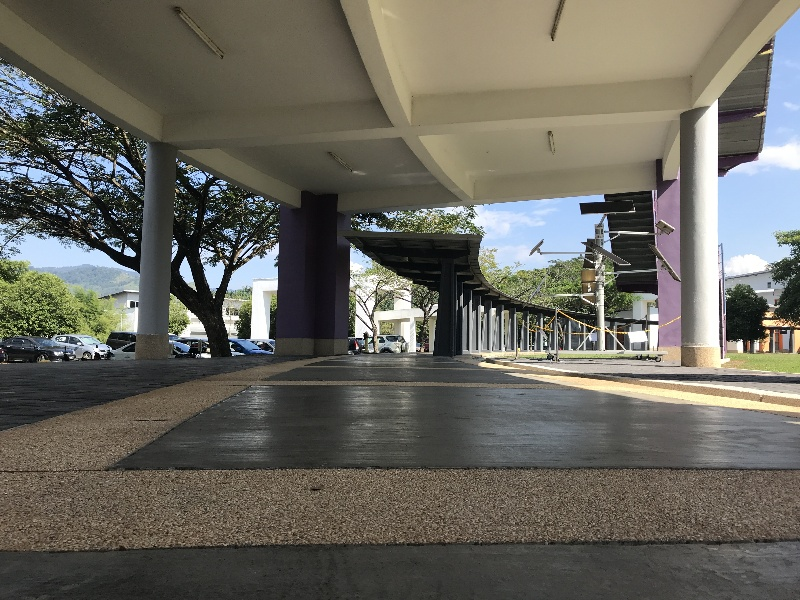Block D Pillar 5: (5, 4, 800, 537)
pillar: (269, 180, 364, 367), (670, 100, 726, 372), (122, 130, 181, 362), (430, 250, 459, 366)
